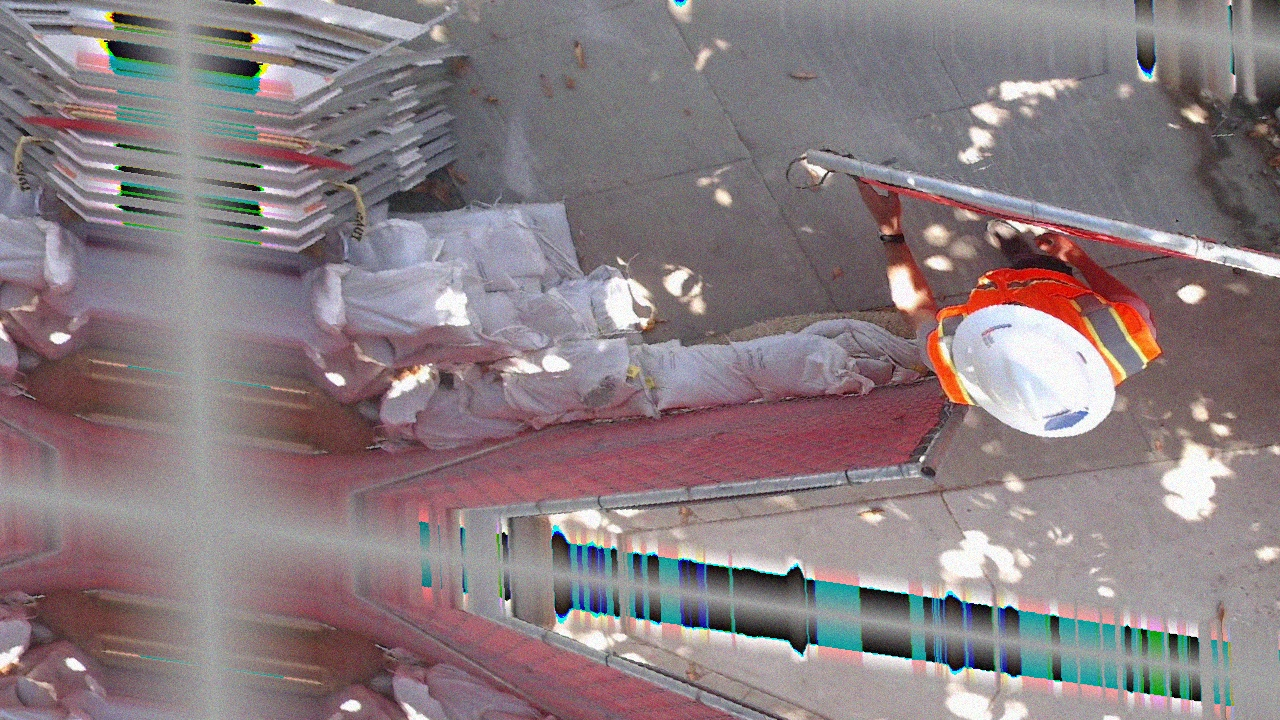blue: (1042, 403, 1088, 437)
hardhat: (948, 293, 1118, 446)
person: (858, 210, 1169, 442)
safetyvest: (921, 249, 1165, 435)
